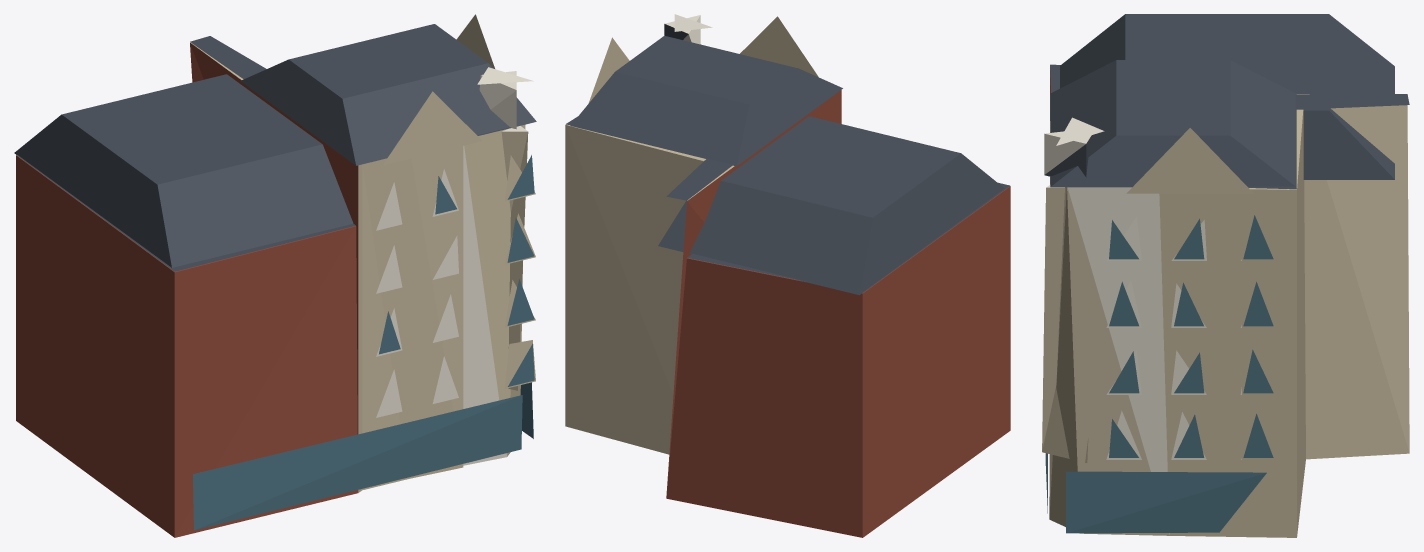
File: athenaeum.lod2.glb
3 renders of one model, left to right at view 1: azimuth 30°, elevation 25°; view 2: azimuth 150°, elevation 25°; view 3: azimuth 270°, elevation 25°, orthographic. The views are drawn at different scales.
Parts seen in each view (by area): view 1: lod2; view 2: lod2; view 3: lod2.
Boxes of the visible parts, x1,y1,x2,y2 form: lod2: (14, 14, 536, 537); lod2: (565, 14, 1010, 537); lod2: (1042, 14, 1409, 537).
Bounding box in the file's own units: 20.13 × 20.21 × 16.54.
